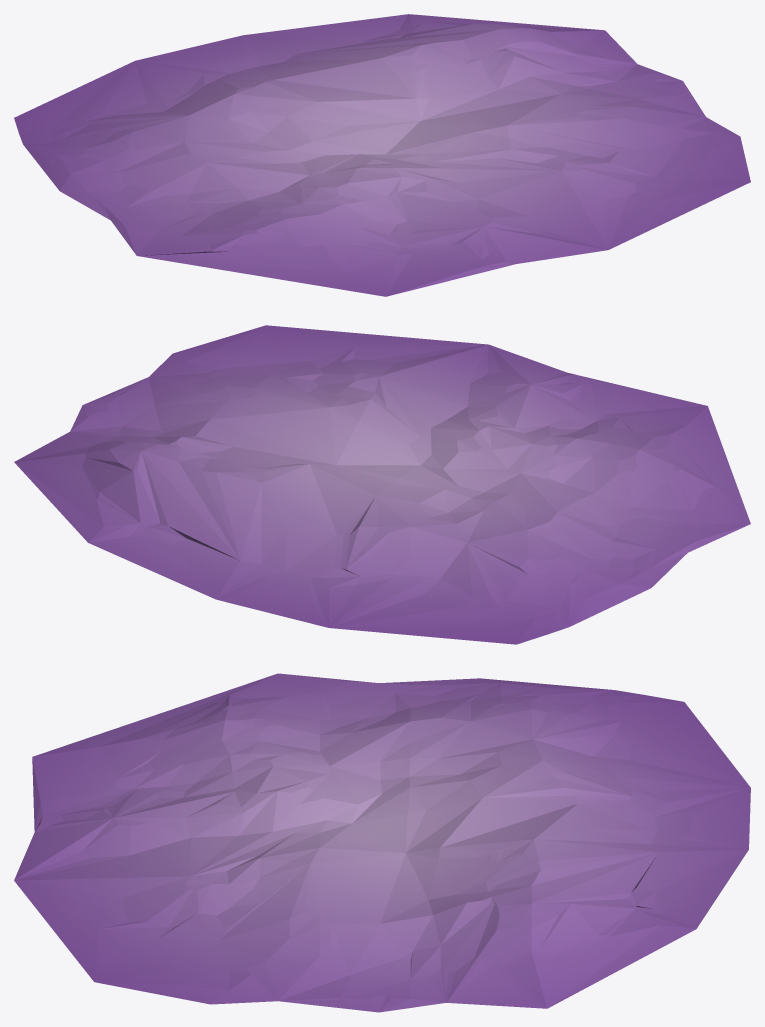
File: Night_Ground_001.FBX
The picture shows the model from 3 angles, top to bottom: view 1: azimuth 30°, elevation 25°; view 2: azimuth 150°, elevation 25°; view 3: azimuth 270°, elevation 25°; orthographic projection. The views are drawn at different scales.
Parts seen in each view (by area): view 1: Night_Ground_001; view 2: Night_Ground_001; view 3: Night_Ground_001.
Boxes of the visible parts, x1,y1,x2,y2 form: Night_Ground_001: (14, 14, 750, 296); Night_Ground_001: (14, 325, 750, 644); Night_Ground_001: (14, 673, 750, 1012).
Bounding box in the file's own units: 5976 × 326 × 5489.
1 material, 1 textured.
